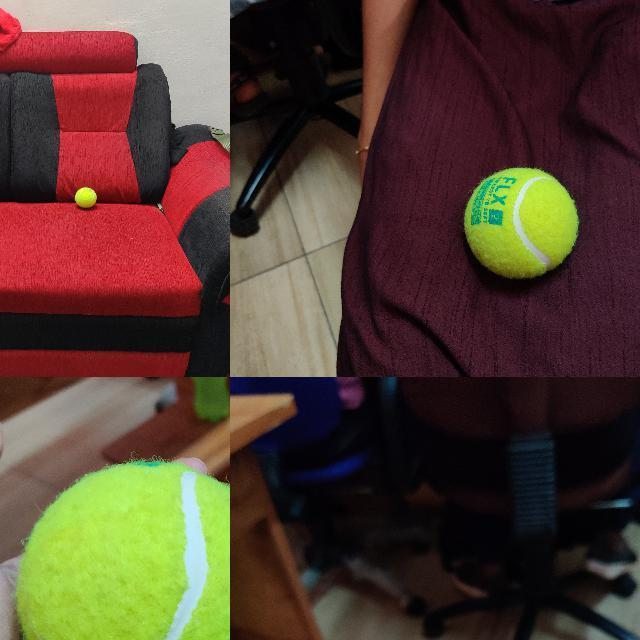tennis-ball: (17, 461, 229, 639), (464, 167, 577, 277), (74, 187, 96, 208)
